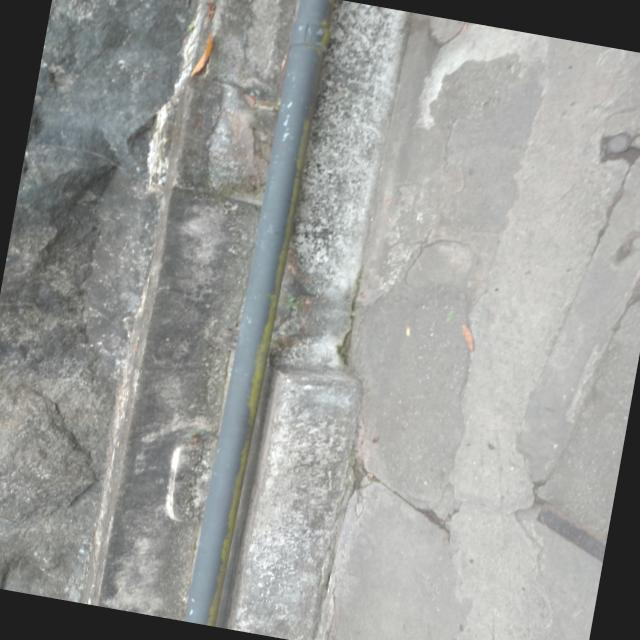gas: (183, 0, 335, 628)
